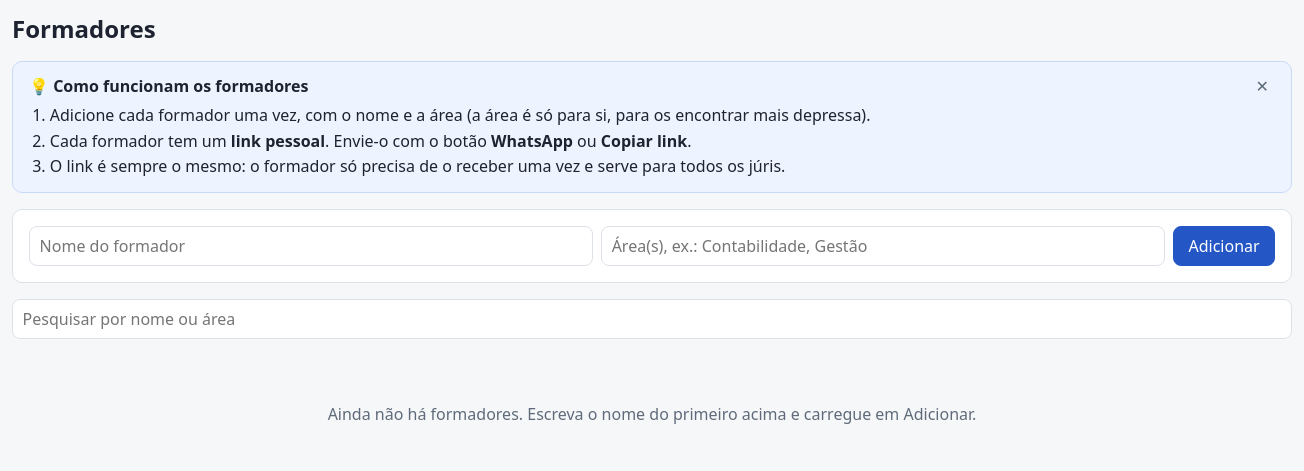
Test: mostra erro se não conseguir adicionar
The width and height of the screenshot is (1304, 471).
Type "Maria" into the field with placeholder "Nome do formador" at (311, 246), box [29,226,593,266]
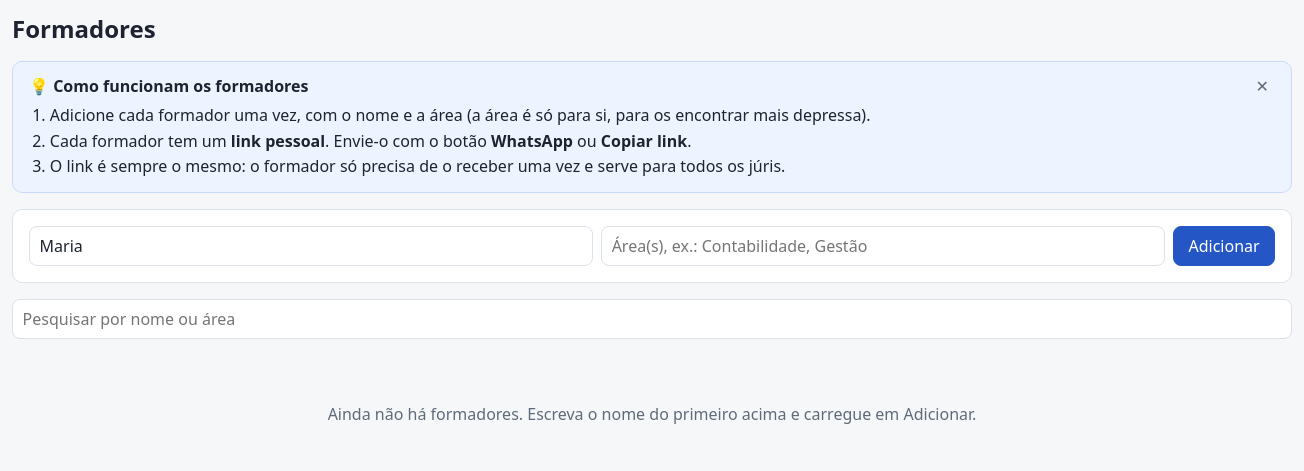
Click the button "Adicionar" at (1224, 246), box [1173,226,1275,266]
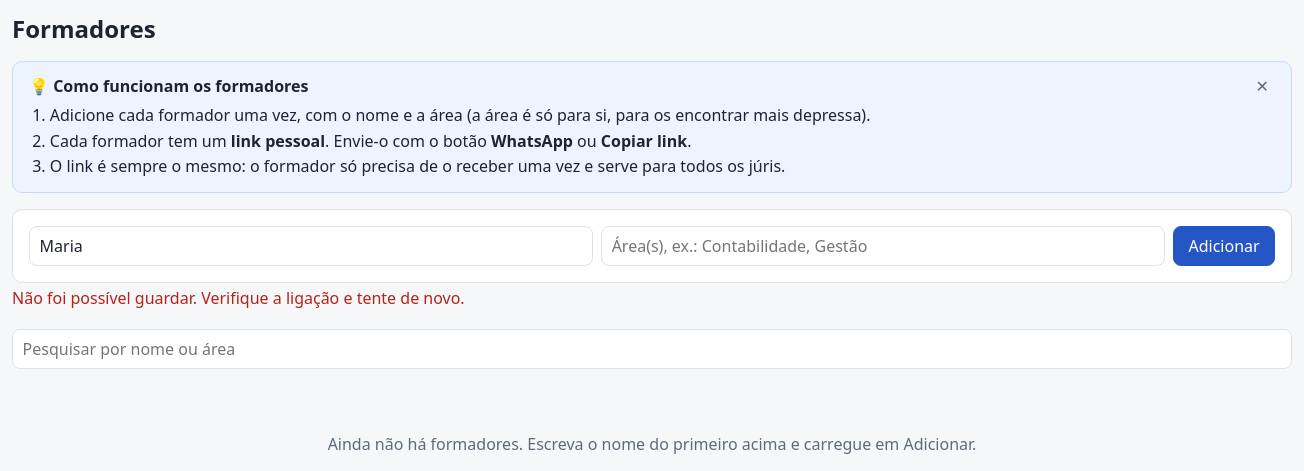
Check: the text "Não foi possível guardar. Verifique a ligação e tente de novo." is shown, box [12,287,465,309]
